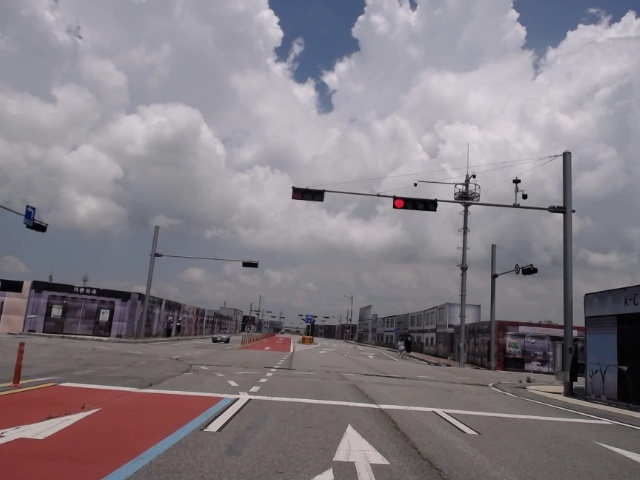red_4: (393, 197, 437, 212)
